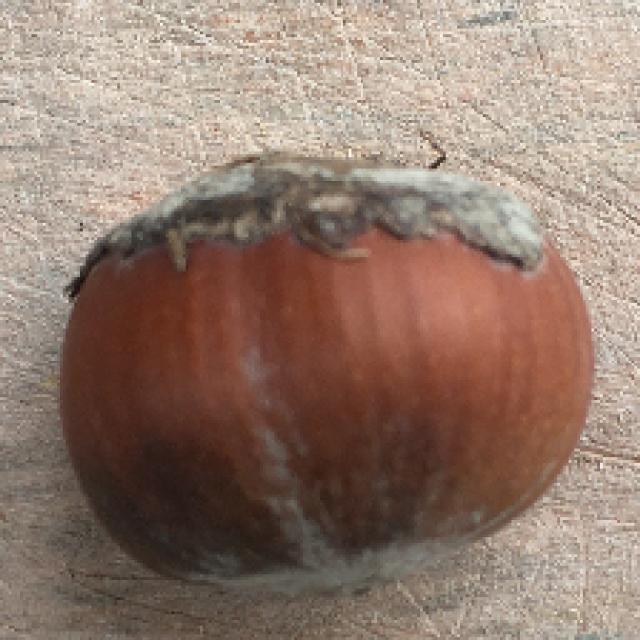damagedHazelnut: (54, 117, 616, 602)
